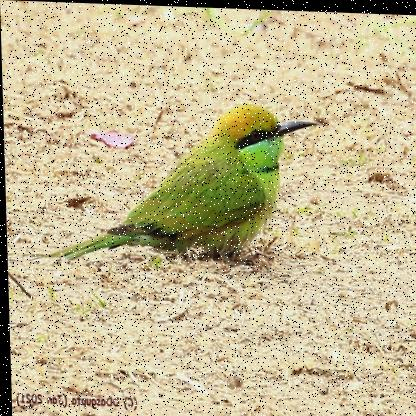Burung: (42, 96, 322, 265)
